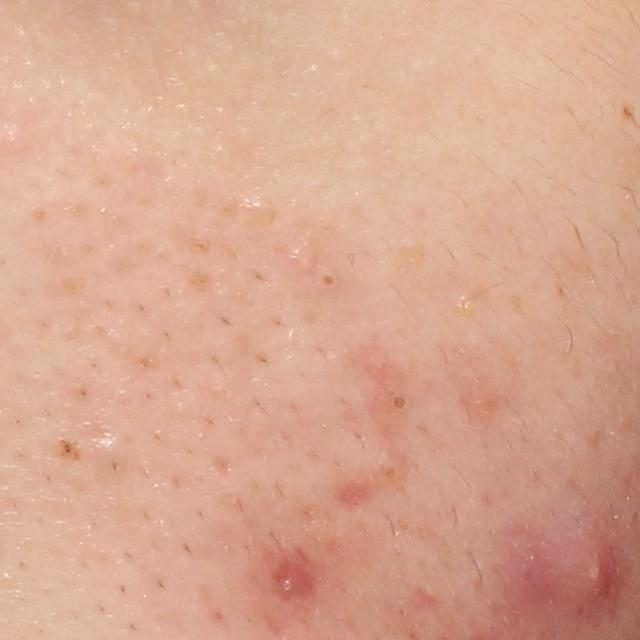comedo: (82, 434, 133, 476), (237, 194, 270, 232), (388, 392, 413, 417), (378, 460, 400, 484), (318, 269, 342, 290)
